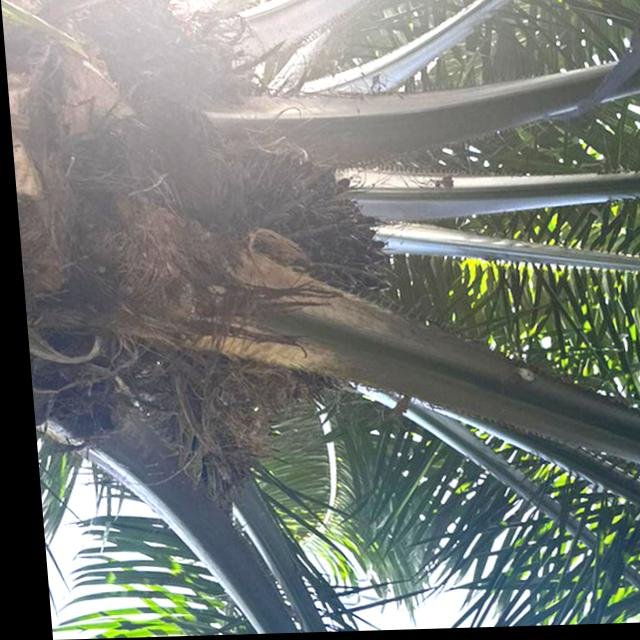ripe: (182, 136, 419, 429)
